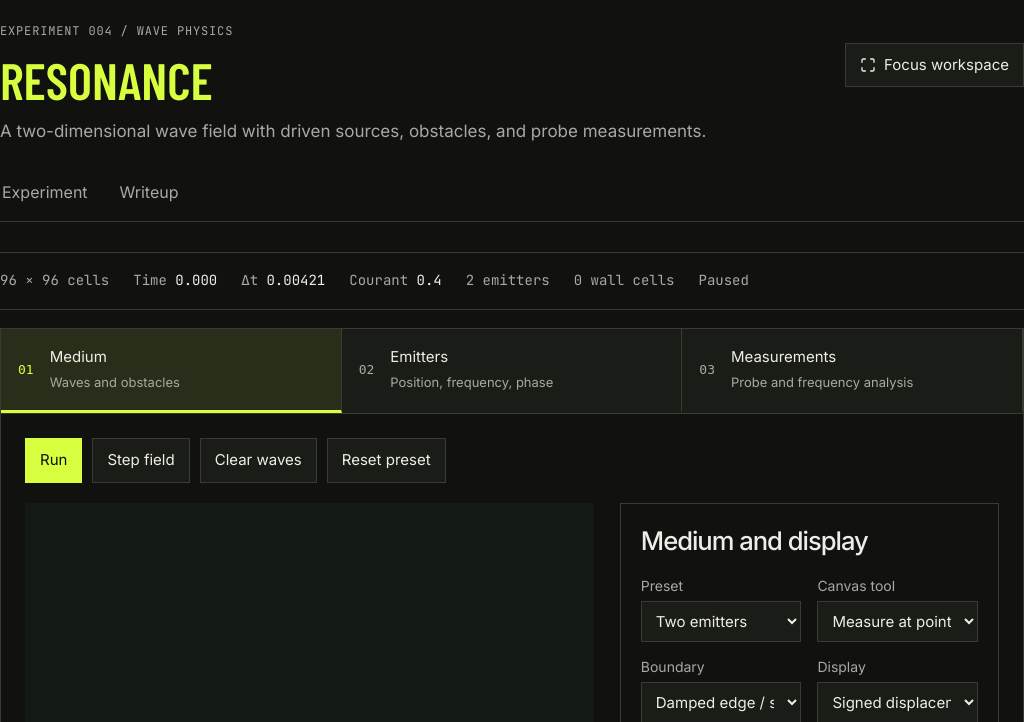
it: Resonance has working source edits, waveform steps and probe history
Click the tab "02 Emitters Position, frequency, phase".
click(419, 356)  # box [342,329,682,413]
(page scrolled)
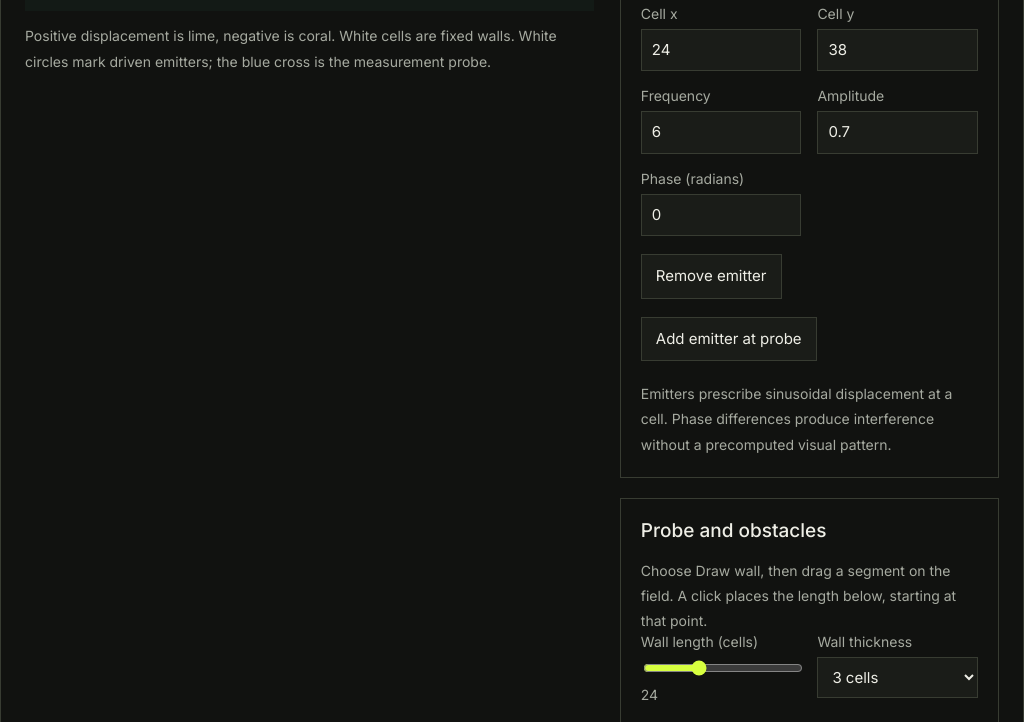
Click the button "Add emitter at probe".
click(729, 339)  # box [641,317,817,361]
(page scrolled)
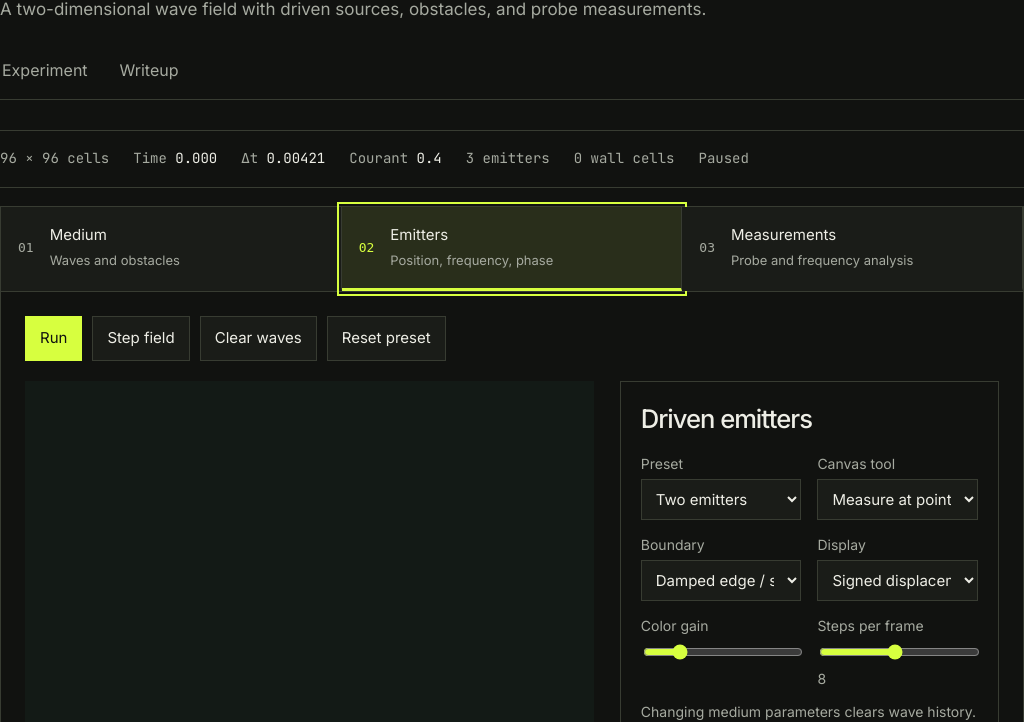
Expected: the element named "RESONANCE summary" shows "3 emitters", [0,130,1023,188]
Click the button "Step field".
click(141, 338)  # box [92,316,190,361]
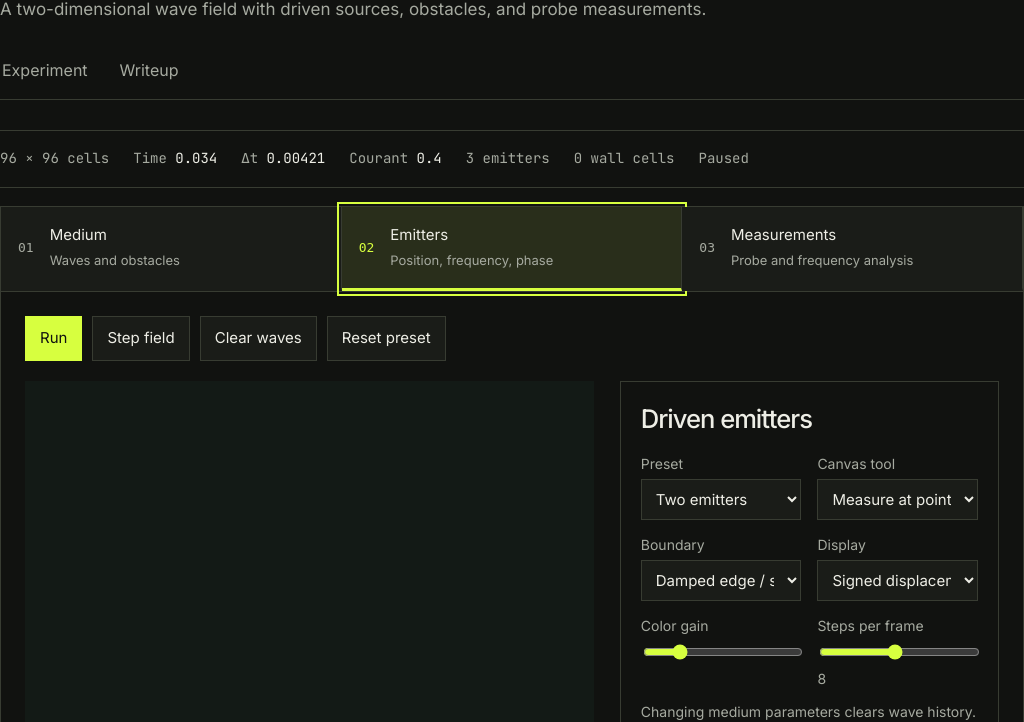
Click the tab "03 Measurements Probe and frequency analysis".
click(784, 234)  # box [682,207,1023,291]
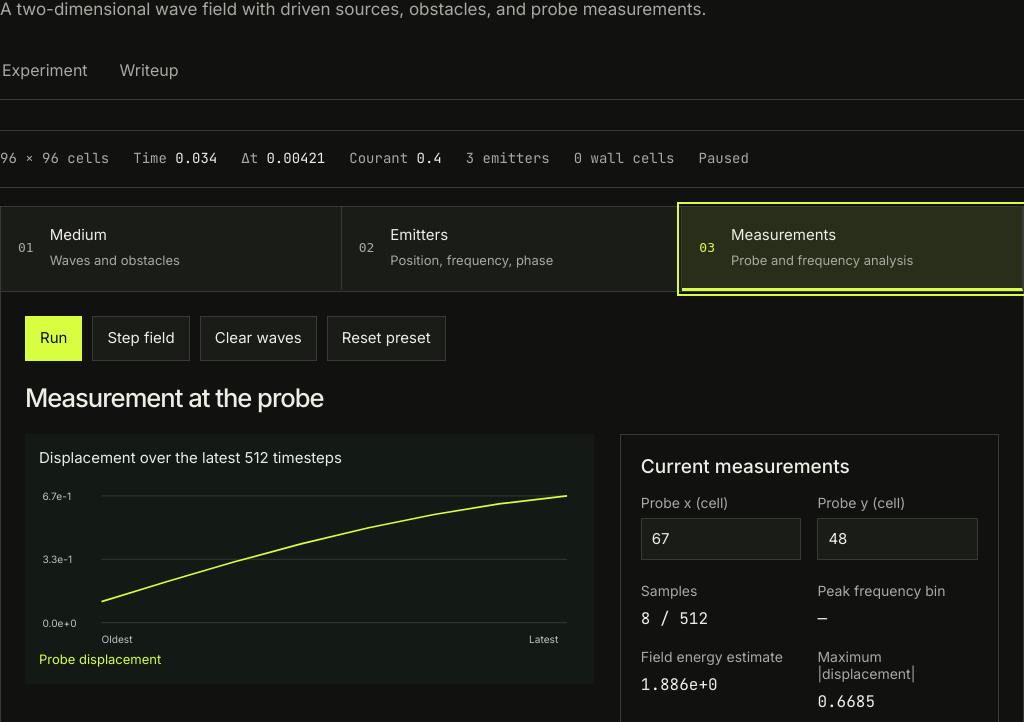
Expected: the text "8 / 512" is shown, [641,608,708,630]
Replace the text in the number field labelled "Probe x (cell)" with "10" at (721, 539), box [641,518,801,560]
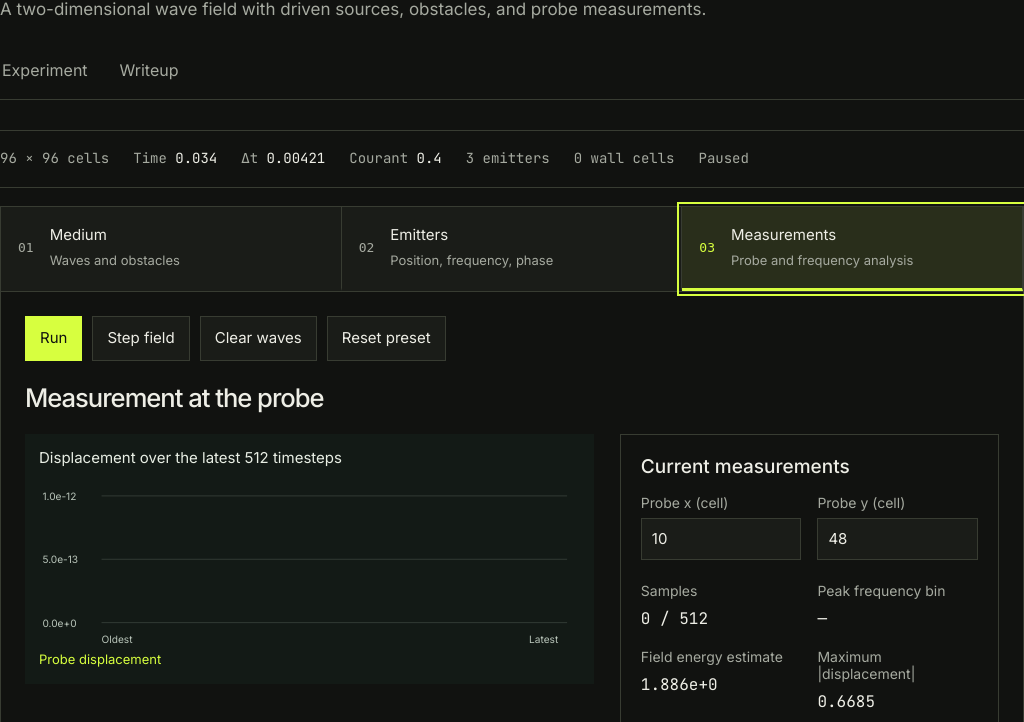
Expected: the text "0 / 512" is shown, [641,608,708,630]
